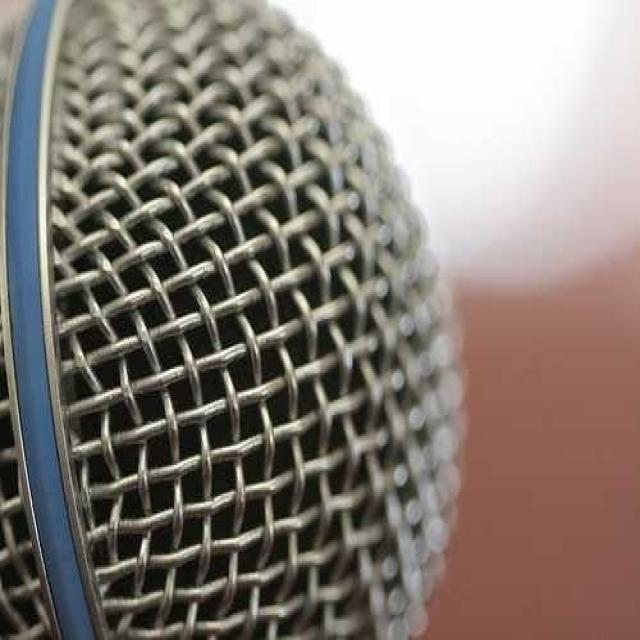microphone: (5, 0, 488, 640)
